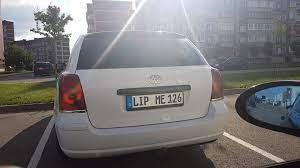1: (167, 94, 172, 103)
2: (172, 93, 177, 103)
6: (177, 92, 182, 102)
E: (160, 94, 166, 104)
I: (139, 96, 143, 105)
L: (133, 96, 139, 106)
M: (155, 94, 161, 105)
P: (144, 95, 149, 106)
